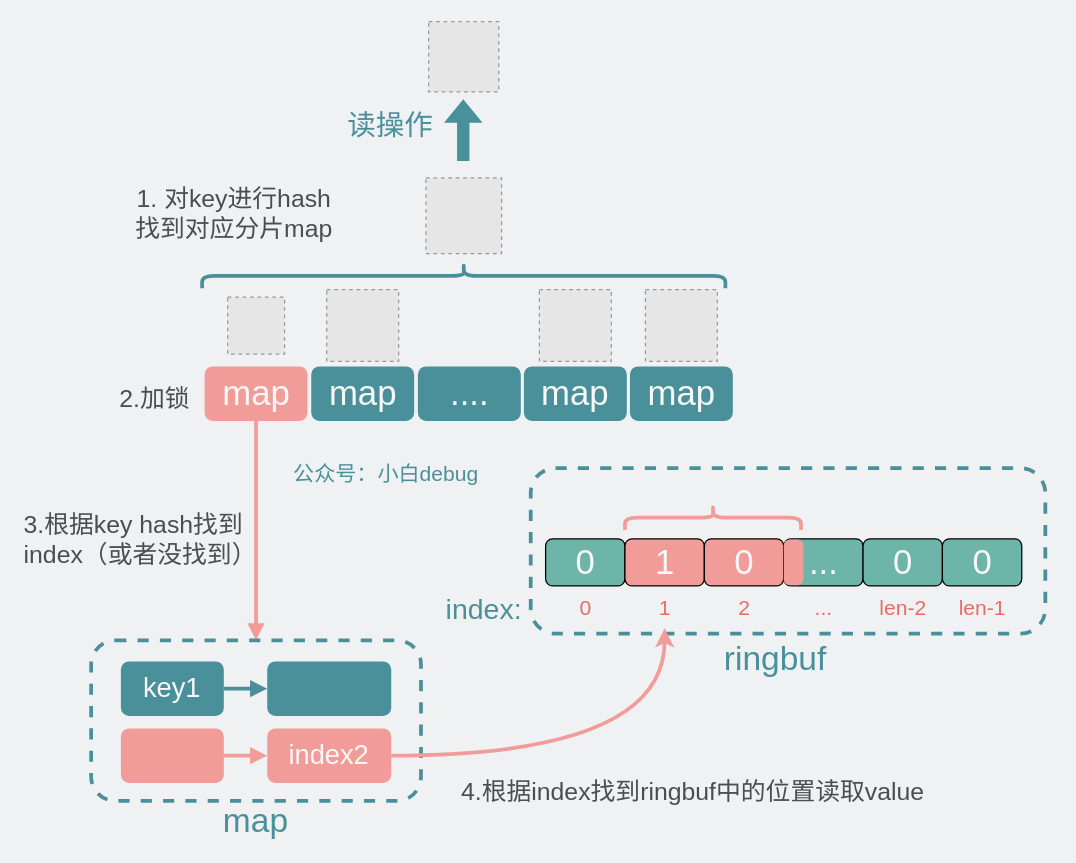
Some shapes in this 1076 by 863 pixel diagram are drawn without their labels. Grey dashed boxes stand in for pictures. The shapes that lost their labels are listed below. From the top down, each one's box as (x1, y1, x2, y2) in pixels, then its label:
(622, 503, 802, 531): value1
(267, 661, 391, 715): index1
(120, 728, 223, 782): key2
